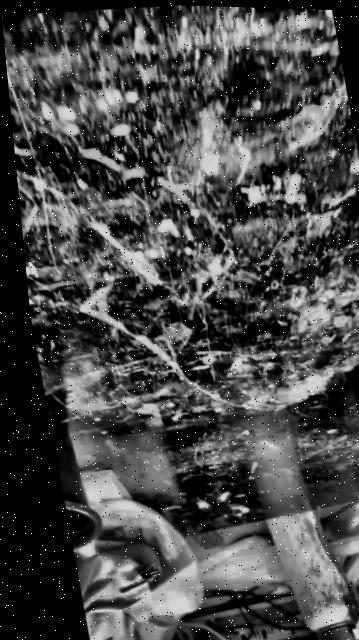pot: (48, 417, 100, 549), (342, 344, 359, 483)
